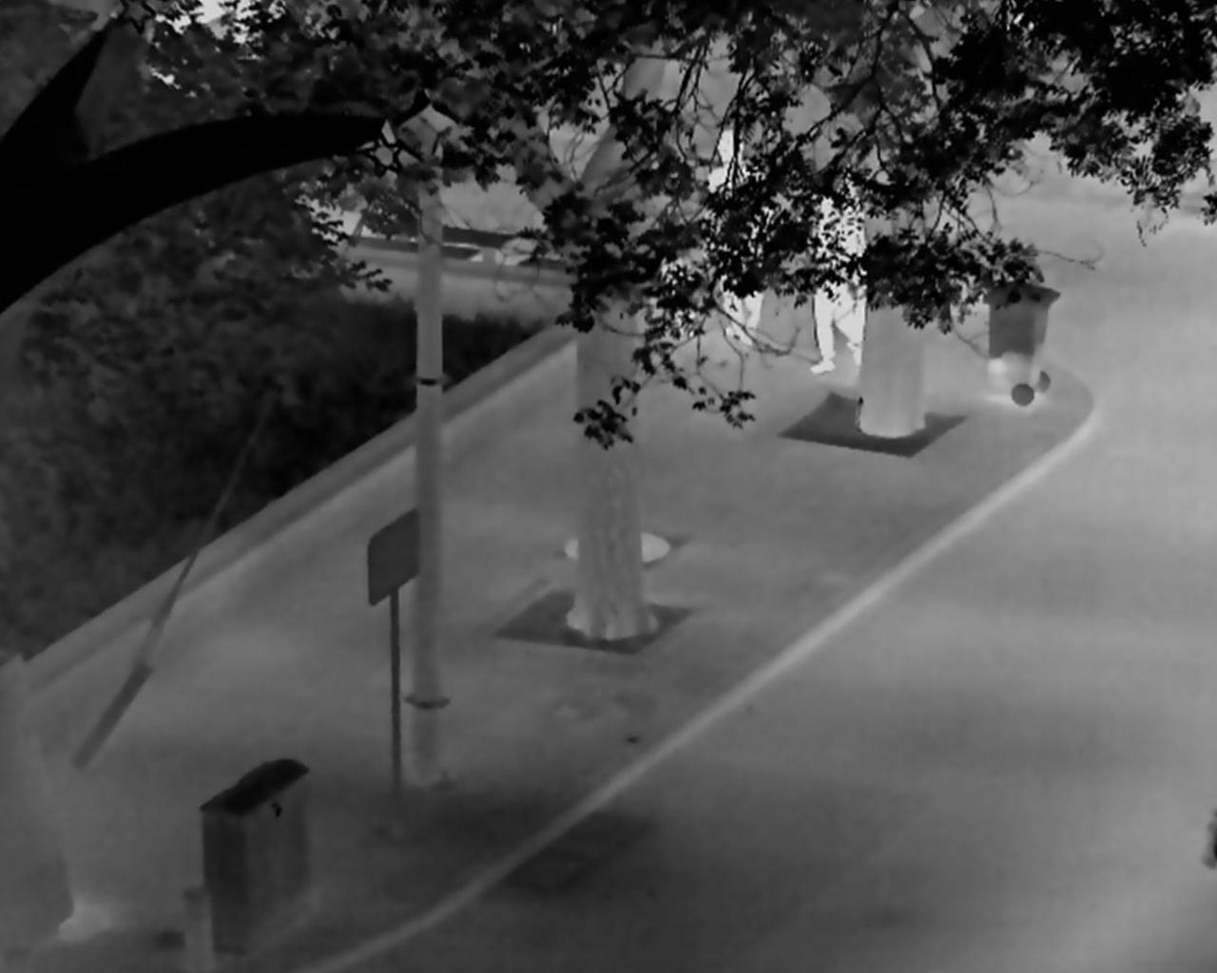person: (705, 130, 776, 344), (811, 183, 861, 373)
